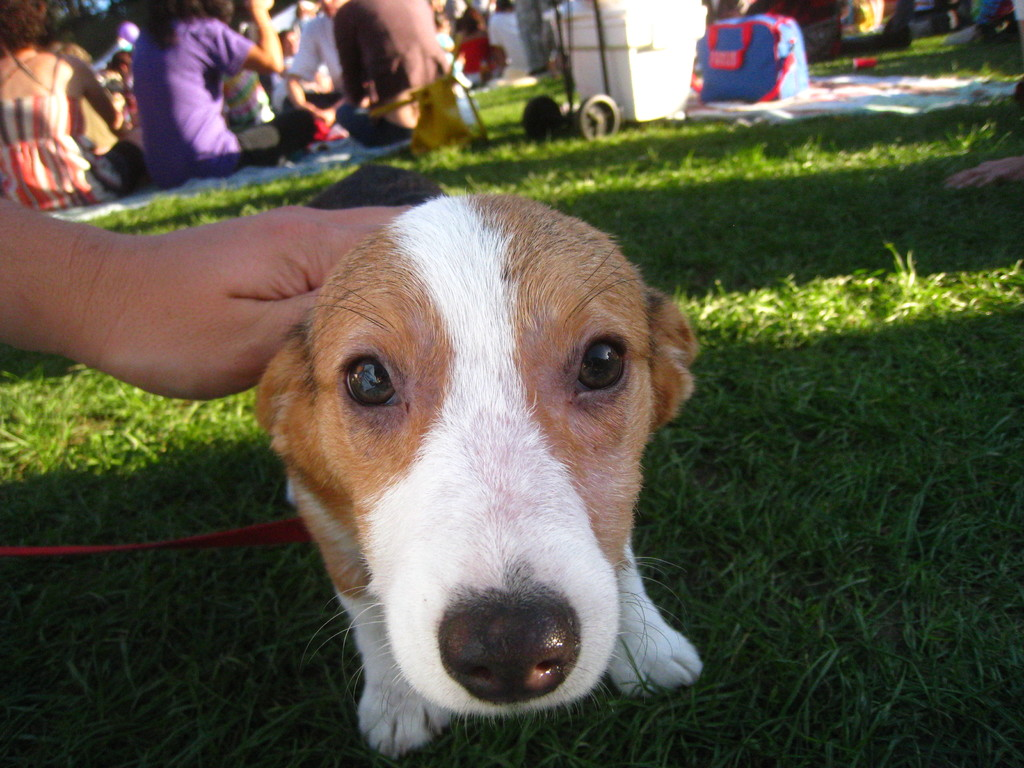Person: (0, 0, 1023, 401)
